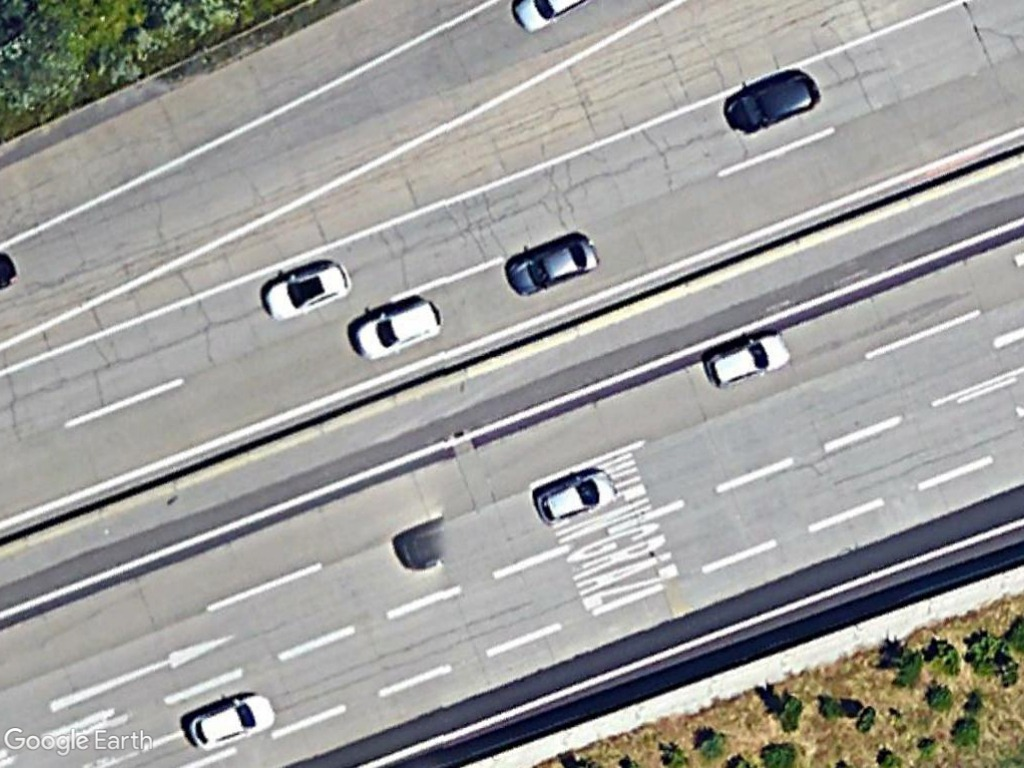car: (723, 61, 823, 138), (349, 290, 451, 365), (502, 227, 604, 299), (182, 684, 281, 756), (258, 254, 354, 328), (698, 325, 796, 392), (528, 464, 620, 528)
